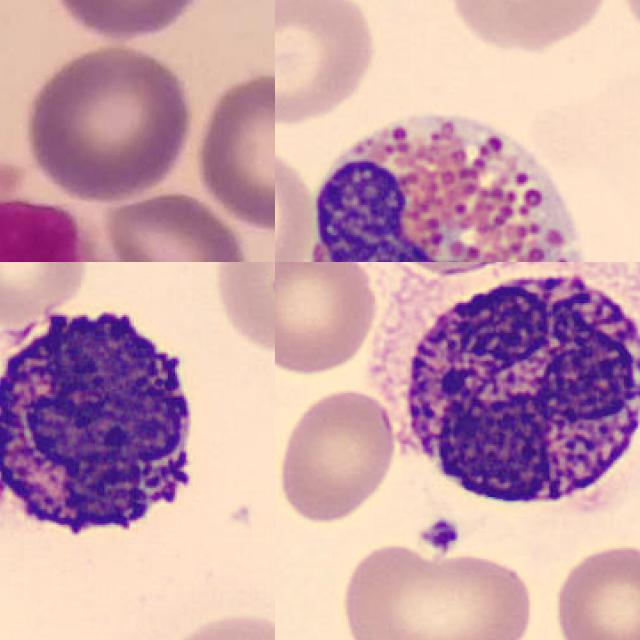Basophil: (376, 262, 640, 530), (0, 288, 210, 567)
Eosinophil: (291, 97, 595, 262)
Platelets: (418, 515, 460, 555)
RBC: (336, 539, 542, 640), (275, 384, 400, 527), (275, 0, 381, 130), (275, 262, 380, 377), (444, 0, 618, 53), (549, 539, 640, 640), (0, 262, 91, 331), (275, 141, 320, 262)
